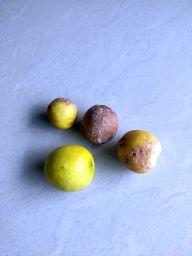lemon: (43, 144, 96, 193), (117, 130, 161, 175), (81, 105, 118, 143), (46, 98, 78, 130)
